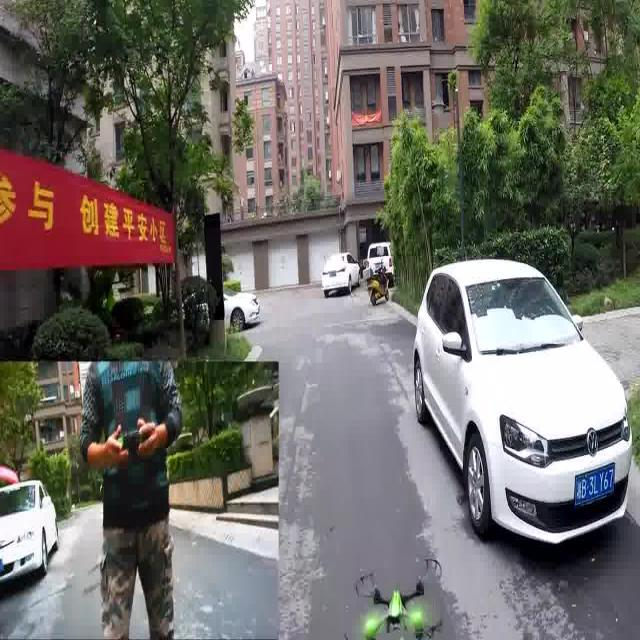drones: (342, 549, 448, 640)
